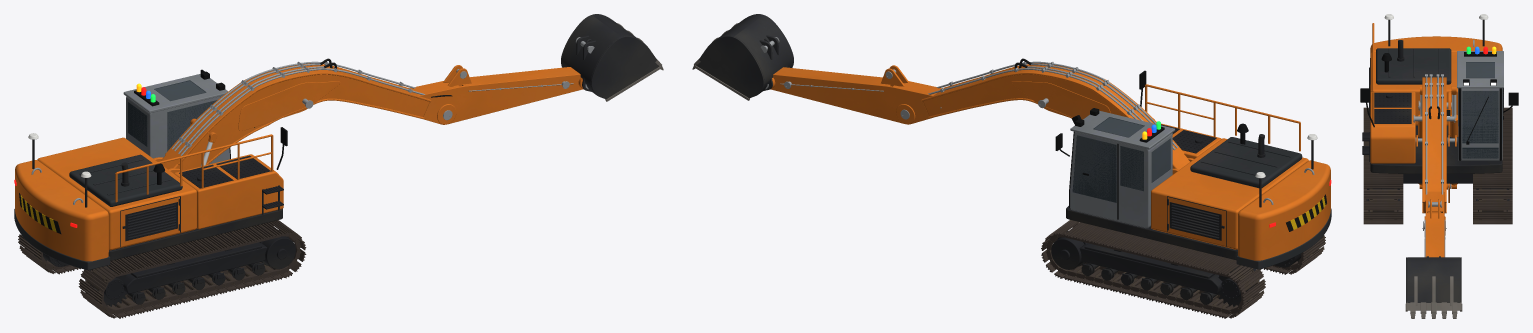
3 views of the same model, side by side, from view 1: azimuth 30°, elevation 25°; view 2: azimuth 150°, elevation 25°; view 3: azimuth 270°, elevation 25° (orthographic). The views are drawn at different scales.
Parts seen in each view (by area): view 1: counterweight, boom_body, engine_room, tank_cover, arm_side_r, cab_shell, engine_hood, bucket_side_r, boom_lines, boom_stiffeners, bucket_shell, boom_flanges (+13 smaller); view 2: cab_shell, counterweight, engine_room, cab_glass, boom_body, arm_side_l, engine_hood, bucket_side_l, bucket_shell, track_frame_L, cab_roof, revolving_frame (+12 smaller); view 3: cab_glass, cab_shell, engine_hood, bucket_shell, tank_cover, boom_body, revolving_frame, cab_roof, boom_flanges, counterweight, arm_covers, anti_slip (+32 smaller).
Part boxes in pixels (x1=…): counterweight: x1=15, y1=160, x2=108, y2=261; boom_body: x1=160, y1=64, x2=429, y2=170; engine_room: x1=37, y1=137, x2=196, y2=250; tank_cover: x1=174, y1=154, x2=283, y2=229; arm_side_r: x1=422, y1=74, x2=581, y2=124; cab_shell: x1=126, y1=95, x2=229, y2=164; engine_hood: x1=69, y1=154, x2=182, y2=206; bucket_side_r: x1=591, y1=36, x2=659, y2=99; boom_lines: x1=172, y1=61, x2=424, y2=155; boom_stiffeners: x1=238, y1=81, x2=340, y2=130; bucket_shell: x1=561, y1=14, x2=639, y2=94; boom_flanges: x1=165, y1=63, x2=431, y2=164; cab_shell: x1=1070, y1=132, x2=1172, y2=228; counterweight: x1=1238, y1=160, x2=1330, y2=260; engine_room: x1=1151, y1=138, x2=1308, y2=249; cab_glass: x1=1072, y1=117, x2=1170, y2=202; boom_body: x1=923, y1=64, x2=1189, y2=169; arm_side_l: x1=771, y1=75, x2=933, y2=124; engine_hood: x1=1190, y1=137, x2=1302, y2=188; bucket_side_l: x1=696, y1=35, x2=764, y2=98; bucket_shell: x1=716, y1=14, x2=793, y2=92; track_frame_L: x1=1079, y1=243, x2=1222, y2=293; cab_roof: x1=1070, y1=110, x2=1175, y2=149; revolving_frame: x1=1066, y1=206, x2=1237, y2=260; cab_glass: x1=1458, y1=62, x2=1502, y2=158; cab_shell: x1=1458, y1=88, x2=1502, y2=160; engine_hood: x1=1376, y1=48, x2=1451, y2=84; bucket_shell: x1=1407, y1=257, x2=1460, y2=302; tank_cover: x1=1370, y1=92, x2=1415, y2=163; boom_body: x1=1423, y1=77, x2=1445, y2=212; revolving_frame: x1=1370, y1=125, x2=1502, y2=173; cab_roof: x1=1457, y1=51, x2=1503, y2=88; boom_flanges: x1=1422, y1=77, x2=1446, y2=213; counterweight: x1=1370, y1=36, x2=1502, y2=54; arm_covers: x1=1425, y1=191, x2=1444, y2=257; anti_slip: x1=1374, y1=92, x2=1411, y2=123.
Size of the model in its own units: 12.85 by 3.96 by 3.18.
Materials: 26 (11 with a texture image).
